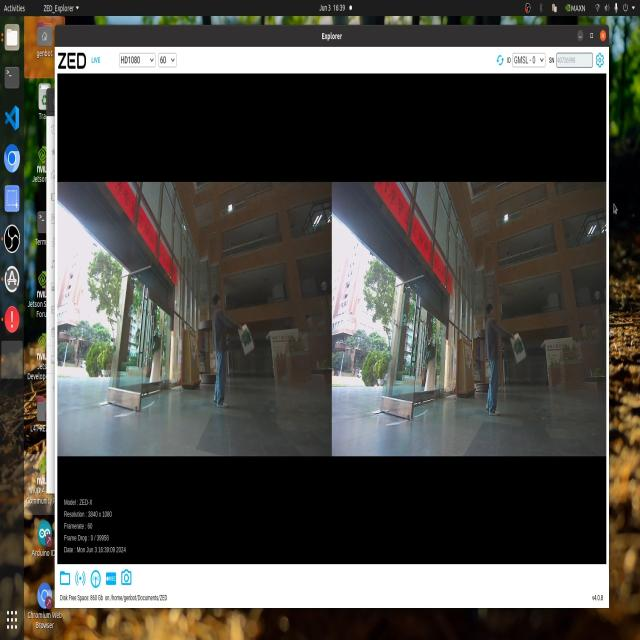green: (510, 331, 525, 356), (237, 326, 251, 352)
